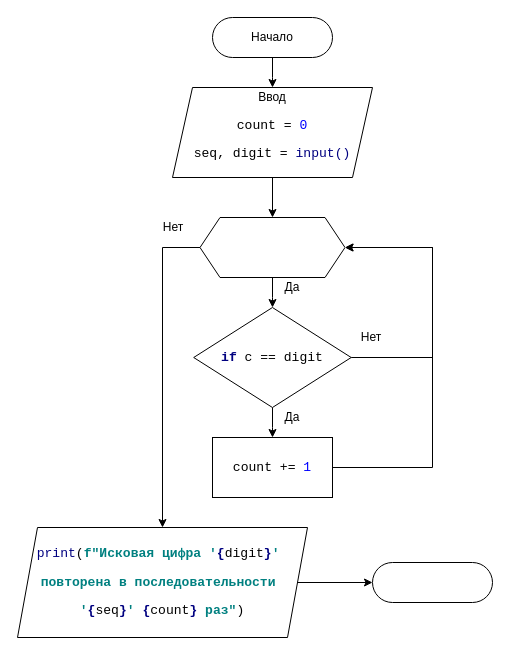
Image size: 510x655. Some labels were removed from this diagram. Here are the shapes that lost their labels. From the top down, the box of each, then its label:
(199, 216, 345, 278): for c in seq
(372, 562, 492, 602): Конец
